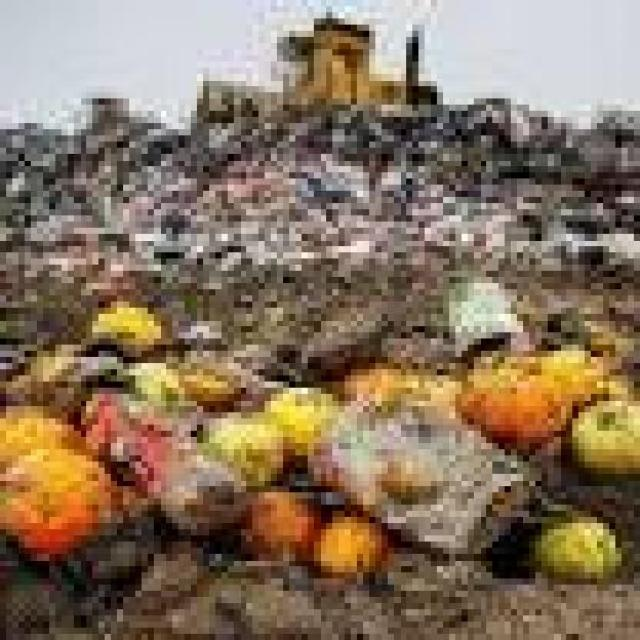garbage: (0, 308, 634, 585), (25, 111, 634, 271)
